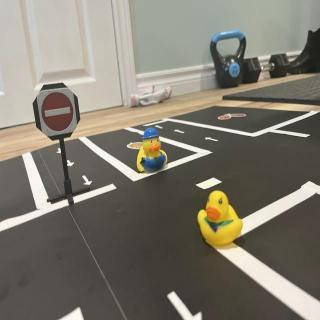duck_regular: (197, 188, 247, 250)
duck_specialty: (137, 127, 170, 175)
road_oneway: (167, 290, 206, 320), (82, 173, 94, 189), (205, 136, 220, 146), (175, 128, 189, 138), (67, 158, 77, 170), (56, 144, 64, 156), (156, 125, 164, 132)
sign_noentry: (39, 88, 79, 138)
